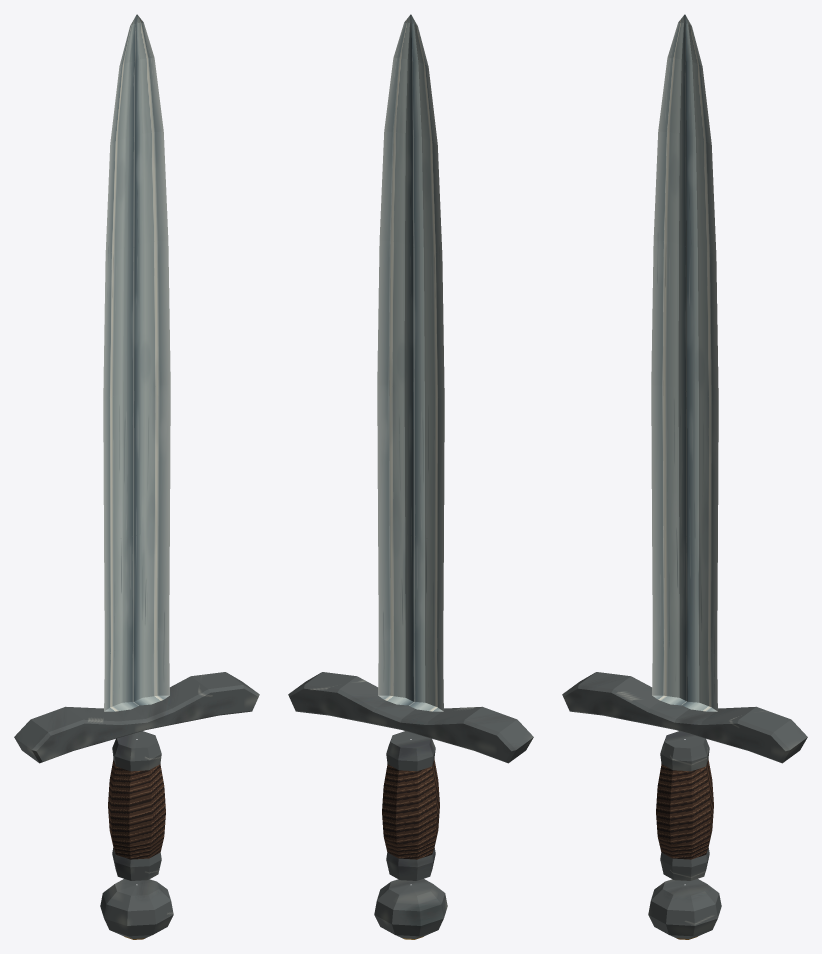
File: longsword.glb
3 views of the same model, side by side, from view 1: azimuth 30°, elevation 25°; view 2: azimuth 150°, elevation 25°; view 3: azimuth 330°, elevation 25° (orthographic).
Visible parts, largest first — view 1: Long steel blade, Aged crossguard, Leather-wrapped grip, Faceted iron pommel, Iron tang; view 2: Long steel blade, Aged crossguard, Leather-wrapped grip, Faceted iron pommel, Iron tang; view 3: Long steel blade, Aged crossguard, Leather-wrapped grip, Faceted iron pommel, Iron tang.
Boxes of the visible parts, bbox=[...] form: Long steel blade: bbox=[103, 14, 170, 711]; Aged crossguard: bbox=[14, 672, 259, 763]; Leather-wrapped grip: bbox=[108, 759, 165, 859]; Faceted iron pommel: bbox=[100, 879, 173, 938]; Iron tang: bbox=[112, 731, 161, 880]; Long steel blade: bbox=[377, 14, 444, 711]; Aged crossguard: bbox=[288, 672, 533, 763]; Leather-wrapped grip: bbox=[382, 759, 439, 859]; Faceted iron pommel: bbox=[374, 879, 447, 938]; Iron tang: bbox=[386, 731, 435, 880]; Long steel blade: bbox=[651, 14, 718, 711]; Aged crossguard: bbox=[562, 672, 807, 763]; Leather-wrapped grip: bbox=[656, 759, 713, 859]; Faceted iron pommel: bbox=[648, 879, 721, 938]; Iron tang: bbox=[660, 731, 709, 880].
Bounding box in the file's own units: 0.2977 × 1.15 × 0.086.
4 materials, 4 textured.
